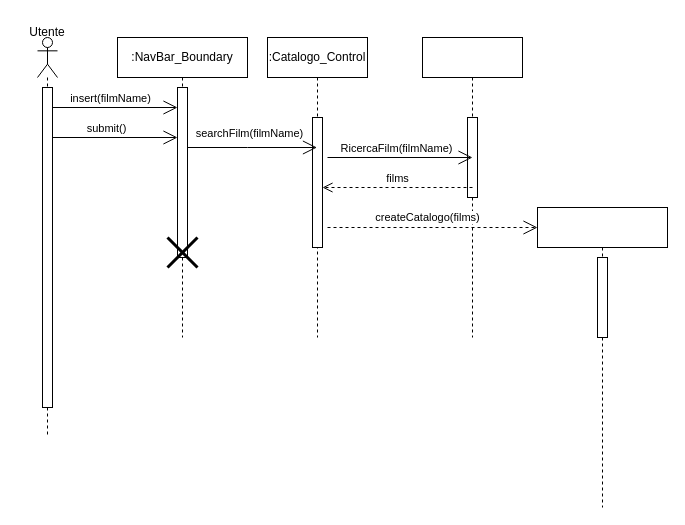
Some shapes in this 685 by 525 pixel diagram are drawn without their labels. Each missing label, with the centre of its shape:
:Catalogo: the point at 472,187
:Catalogo_Boundary: the point at 602,357
